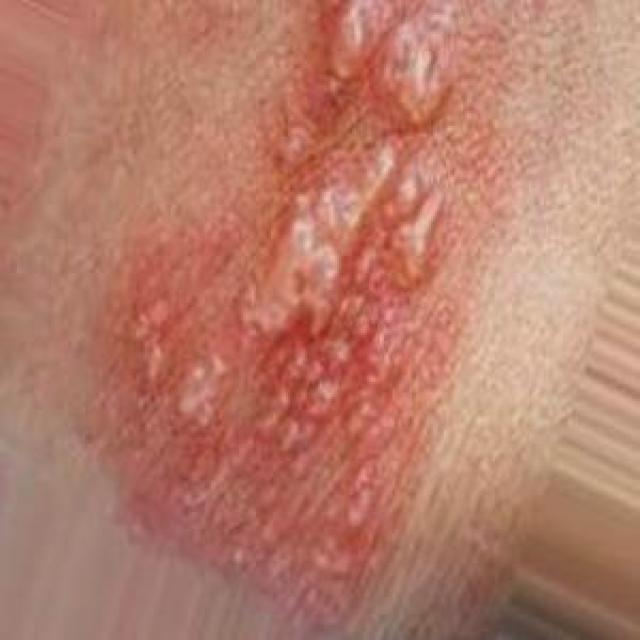Shingles: (151, 1, 451, 577)
